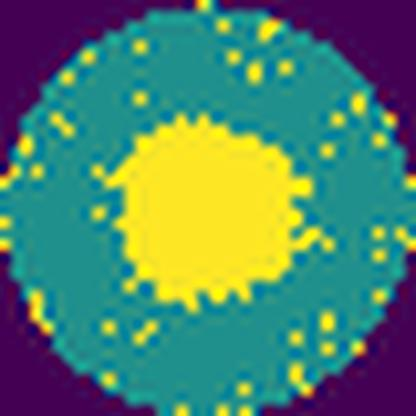Center: (111, 115, 318, 312)
